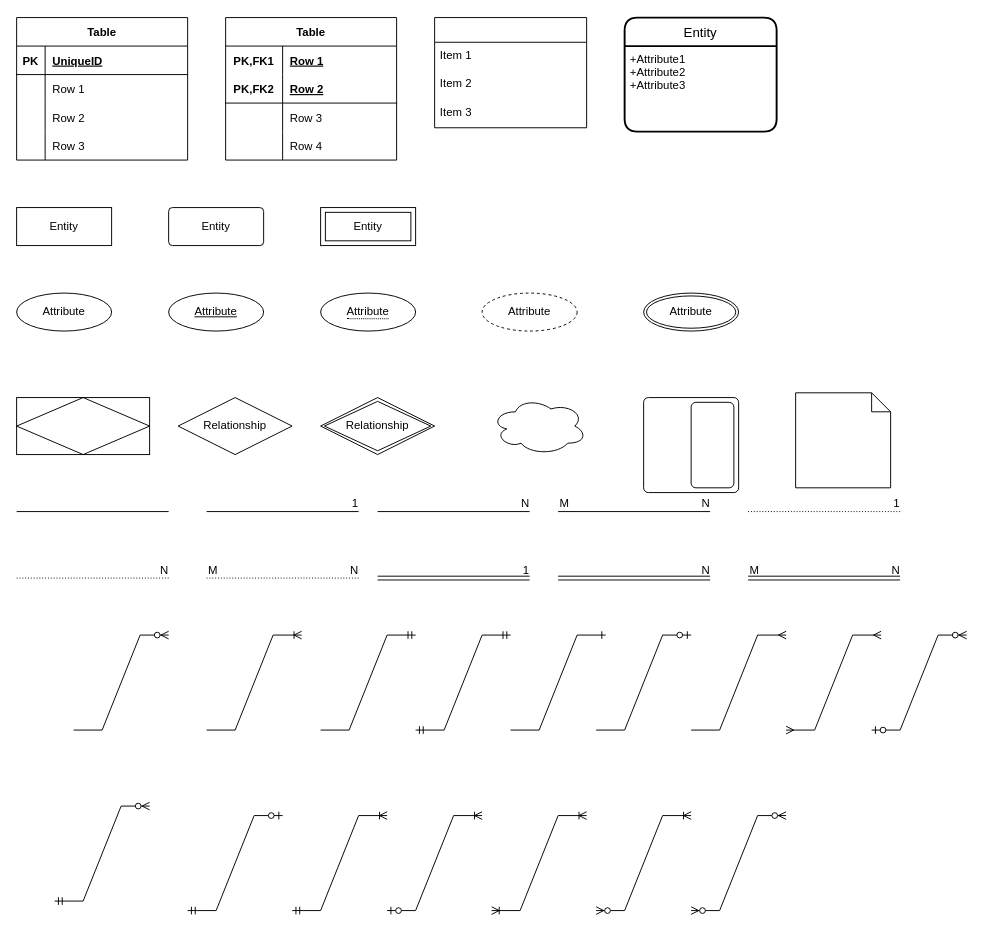
Image size: 992x936. Some labels were removed from this diagram. The box of each missing label's shape, as (x1, y1, x2, y2) in pixels:
Associative Entity: (16, 397, 150, 455)
Cloud: (491, 397, 587, 455)
List: (434, 17, 587, 128)
main: (643, 397, 691, 493)
Note: (795, 392, 891, 488)
sub: (690, 401, 734, 488)
